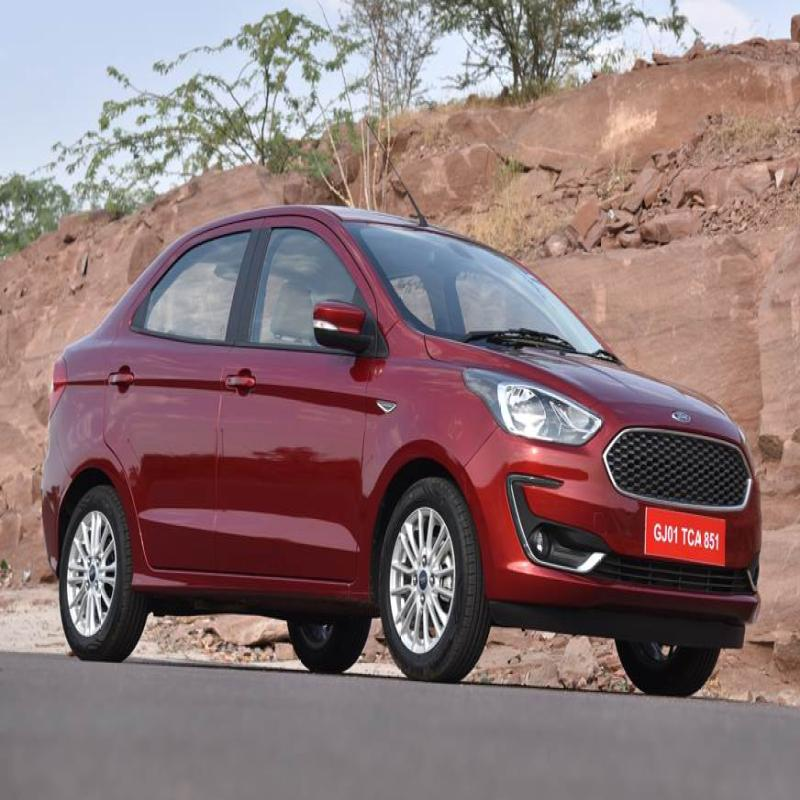car: (29, 155, 800, 672)
